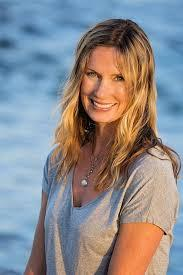person: (55, 12, 161, 138)
